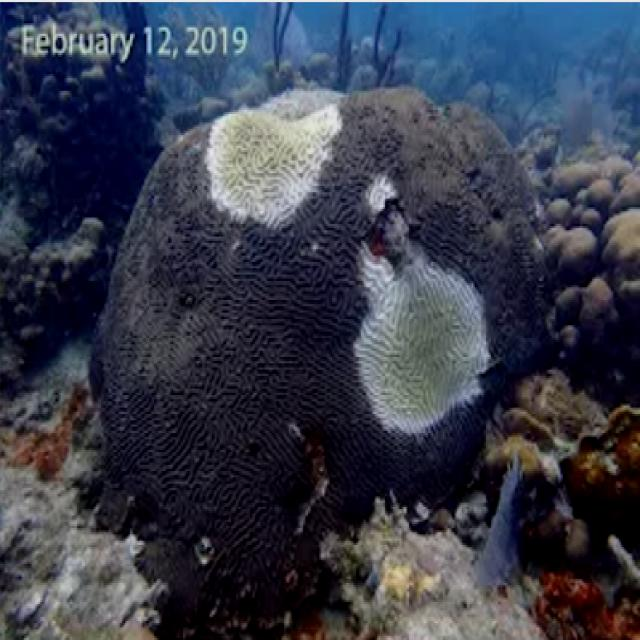Coral: (89, 83, 554, 639)
